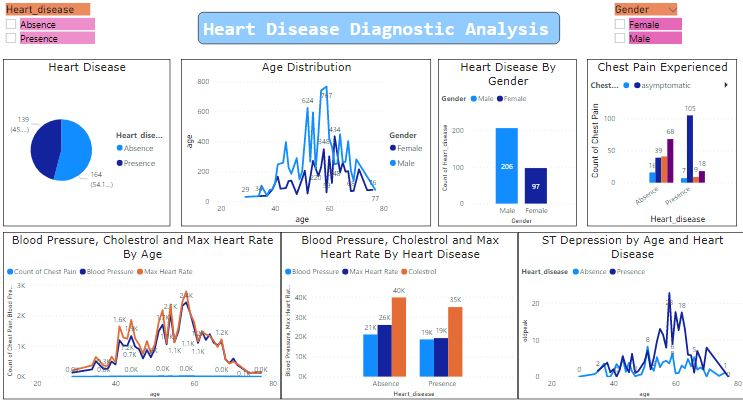

What the dashboard file says about the page in this screenshot:
{"tool":"powerbi","page":{"name":"Page 1","canvas":[1280,720],"ordinal":0},"visuals":[{"type":"pieChart","title":"Heart Disease","fields":{"Category":["heart_disease_dataset.Heart_disease"],"Y":["CountNonNull(heart_disease_dataset.Heart_disease)"]},"box":[31.9,114.2,280.5,280.5],"z":0},{"type":"lineChart","title":"Age Distribution","fields":{"Category":["heart_disease_dataset.age"],"Series":["heart_disease_dataset.Gender"],"Y":["Sum(heart_disease_dataset.age)"]},"box":[330.9,114.2,419.9,280.5],"z":1000},{"type":"columnChart","title":"Heart Disease By Gender","fields":{"Category":["heart_disease_dataset.Gender"],"Series":["heart_disease_dataset.Gender"],"Y":["CountNonNull(heart_disease_dataset.Heart_disease)"]},"box":[762.6,114.2,233.5,280.5],"z":2000},{"type":"clusteredColumnChart","title":"Chest Pain Experienced","fields":{"Category":["heart_disease_dataset.Heart_disease"],"Series":["heart_disease_dataset.Chest Pain"],"Y":["CountNonNull(heart_disease_dataset.Chest Pain)"]},"box":[1012.9,114.2,252,280.5],"z":3000},{"type":"lineChart","title":"Blood Pressure, Cholestrol and Max Heart Rate By Age","fields":{"Category":["heart_disease_dataset.age"],"Y":["CountNonNull(heart_disease_dataset.Chest Pain)","Sum(heart_disease_dataset.Blood Pressure)","Sum(heart_disease_dataset.Max Heart Rate)"]},"box":[31.9,404.8,467,280.5],"z":4000},{"type":"clusteredColumnChart","title":"Blood Pressure, Cholestrol and Max Heart Rate By Heart Disease","fields":{"Category":["heart_disease_dataset.Heart_disease"],"Y":["Sum(heart_disease_dataset.Blood Pressure)","Sum(heart_disease_dataset.Max Heart Rate)","Sum(heart_disease_dataset.Colestrol)"]},"box":[498.9,404.8,398.1,280.5],"z":5000},{"type":"lineChart","title":"ST Depression by Age and Heart Disease","fields":{"Y":["Sum(heart_disease_dataset.oldpeak)"],"Category":["heart_disease_dataset.age"],"Series":["heart_disease_dataset.Heart_disease"]},"box":[897,404.8,383,280.5],"z":6000},{"type":"textbox","box":[359.5,35.3,608.1,53.8],"z":7000},{"type":"slicer","fields":{"Values":["heart_disease_dataset.Gender"]},"box":[1046.5,15.1,131,85.7],"z":8000},{"type":"slicer","fields":{"Values":["heart_disease_dataset.Heart_disease"]},"box":[23.5,15.1,168,85.7],"z":9000}]}

Visuals, with their boxes on the page's 1280x720 design canvas (x1, y1, x2, y2). These are canvas units, not pixel positions in the 743x400 screenshot, which may show the page scaled, cropped or inside an application window:
"Heart Disease" pieChart: [x1=32, y1=114, x2=312, y2=395]
"Age Distribution" lineChart: [x1=331, y1=114, x2=751, y2=395]
"Heart Disease By Gender" columnChart: [x1=763, y1=114, x2=996, y2=395]
"Chest Pain Experienced" clusteredColumnChart: [x1=1013, y1=114, x2=1265, y2=395]
"Blood Pressure, Cholestrol and Max Heart Rate By Age" lineChart: [x1=32, y1=405, x2=499, y2=685]
"Blood Pressure, Cholestrol and Max Heart Rate By Heart Disease" clusteredColumnChart: [x1=499, y1=405, x2=897, y2=685]
"ST Depression by Age and Heart Disease" lineChart: [x1=897, y1=405, x2=1280, y2=685]
textbox: [x1=360, y1=35, x2=968, y2=89]
slicer - heart_disease_dataset.Gender: [x1=1046, y1=15, x2=1178, y2=101]
slicer - heart_disease_dataset.Heart_disease: [x1=24, y1=15, x2=192, y2=101]
